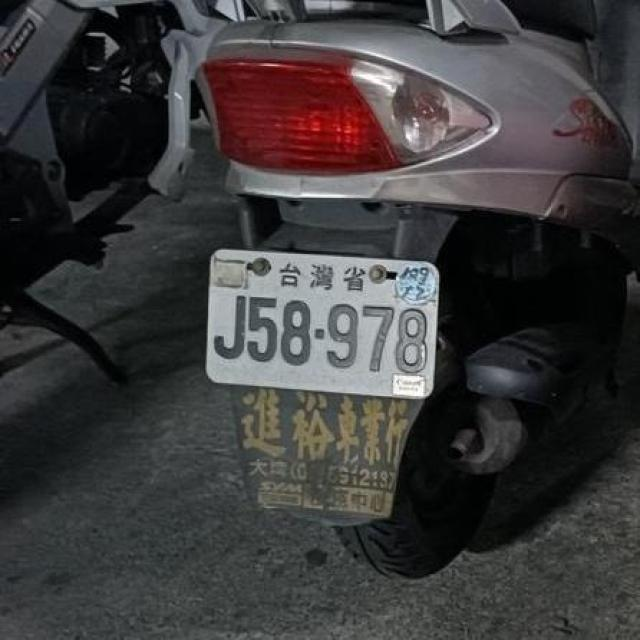W: (191, 240, 449, 406)
